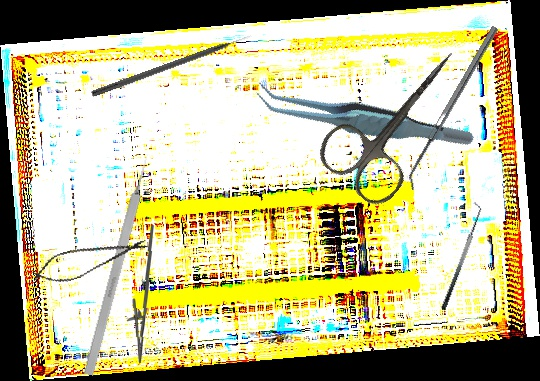Hook Surgical: (83, 152, 153, 377), (90, 33, 254, 99)
Iris Scissors: (310, 25, 488, 213)
Micro Scissor: (29, 228, 151, 291)
Needle Holder: (123, 224, 159, 364)
Spatula Surgical: (401, 25, 505, 191), (432, 201, 488, 312)
Tissue Forceps: (250, 44, 477, 192)
